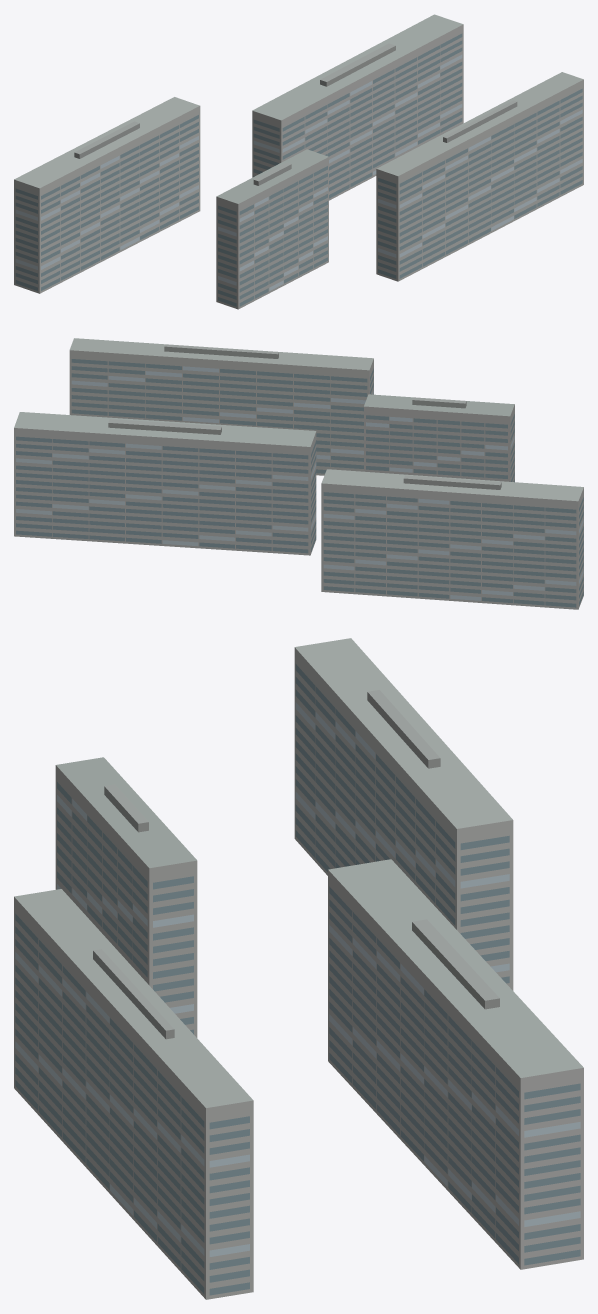
The model's file is apt-a13583404.glb.
The picture shows the model from 3 angles, top to bottom: view 1: azimuth 30°, elevation 25°; view 2: azimuth 150°, elevation 25°; view 3: azimuth 270°, elevation 25°; orthographic projection. The views are drawn at different scales.
Parts seen in each view (by area): view 1: apt-a13583404; view 2: apt-a13583404; view 3: apt-a13583404.
Boxes of the visible parts, x1,y1,x2,y2 form: apt-a13583404: [14, 14, 583, 309]; apt-a13583404: [14, 338, 583, 609]; apt-a13583404: [14, 638, 583, 1299].
Size of the model in its own units: 241 by 47.81 by 123.
